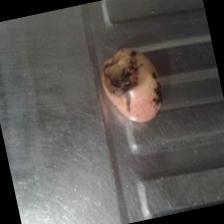Mango Rotten: (96, 41, 172, 128)
